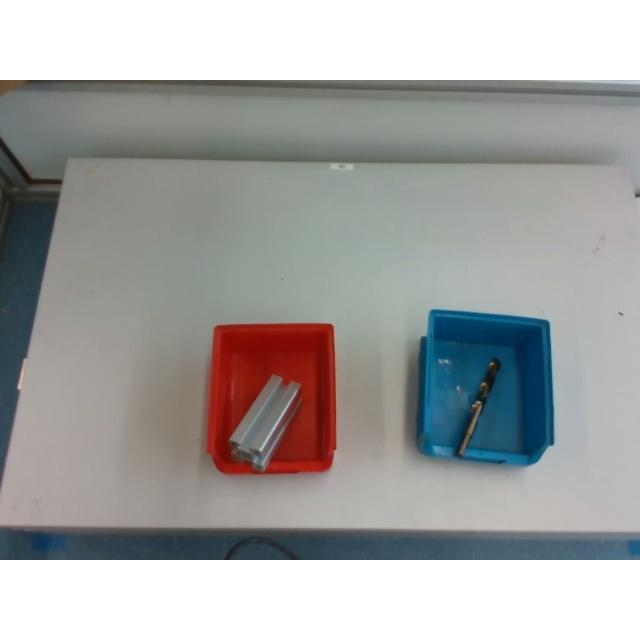Drill: (455, 357, 501, 457)
S40_40_G: (228, 374, 300, 471)
container_box_blue: (418, 309, 554, 465)
container_box_red: (206, 322, 334, 473)
